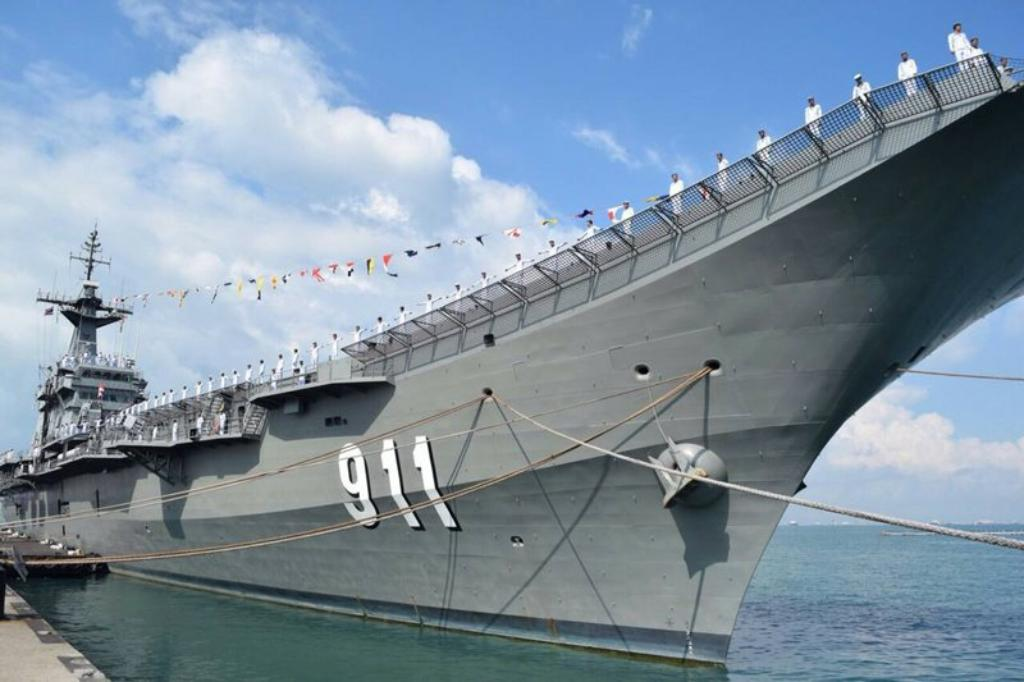Warship: (0, 0, 1024, 662)
